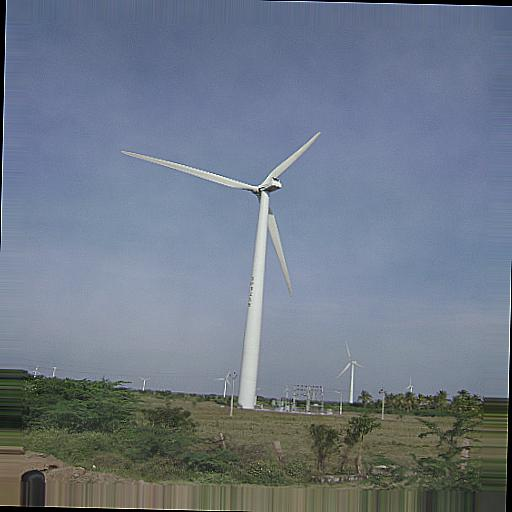wind turbine: (121, 130, 324, 401), (338, 338, 367, 405)
